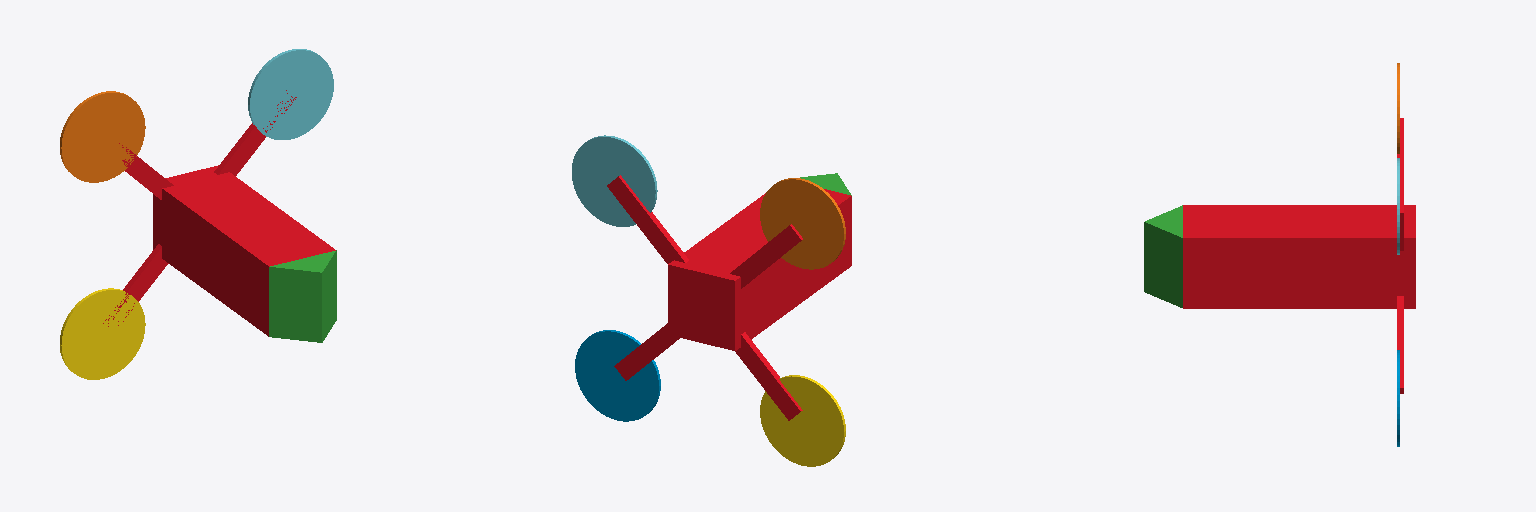
The model's file is tinker.obj.
3 renders of one model, left to right at view 1: azimuth 30°, elevation 25°; view 2: azimuth 150°, elevation 25°; view 3: azimuth 270°, elevation 25°, orthographic.
Visible parts, largest first — view 1: obj_5, obj_0, obj_2, obj_1, obj_4, obj_7, obj_8, obj_9; view 2: obj_5, obj_1, obj_2, obj_3, obj_0, obj_7, obj_8, obj_9, obj_6; view 3: obj_5, obj_4, obj_6.
Part boxes in pixels (left/top/right/bottom): obj_5: left=153, top=165, right=335, bottom=336; obj_0: left=248, top=49, right=333, bottom=139; obj_2: left=60, top=288, right=145, bottom=379; obj_1: left=60, top=91, right=145, bottom=182; obj_4: left=269, top=250, right=336, bottom=342; obj_7: left=214, top=90, right=296, bottom=175; obj_8: left=103, top=244, right=168, bottom=326; obj_9: left=119, top=143, right=173, bottom=199; obj_5: left=668, top=189, right=851, bottom=350; obj_1: left=760, top=178, right=845, bottom=269; obj_2: left=760, top=375, right=845, bottom=466; obj_3: left=575, top=330, right=660, bottom=421; obj_0: left=572, top=135, right=657, bottom=226; obj_7: left=607, top=175, right=688, bottom=263; obj_8: left=735, top=332, right=802, bottom=420; obj_9: left=730, top=224, right=802, bottom=288; obj_6: left=614, top=323, right=679, bottom=380; obj_5: left=1183, top=205, right=1415, bottom=308; obj_4: left=1144, top=205, right=1182, bottom=307; obj_6: left=1397, top=296, right=1403, bottom=393.
Bounding box in the file's own units: 81 × 81 × 70.